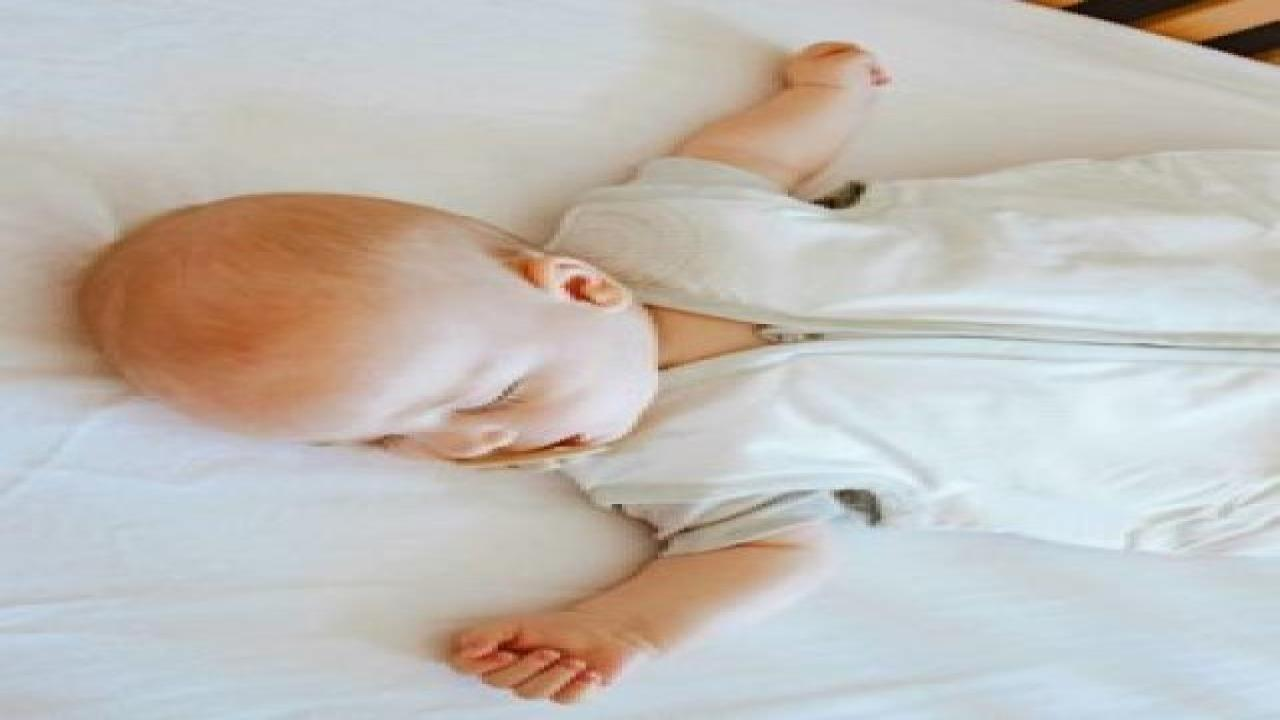hand: (452, 618, 632, 702), (794, 40, 886, 88)
